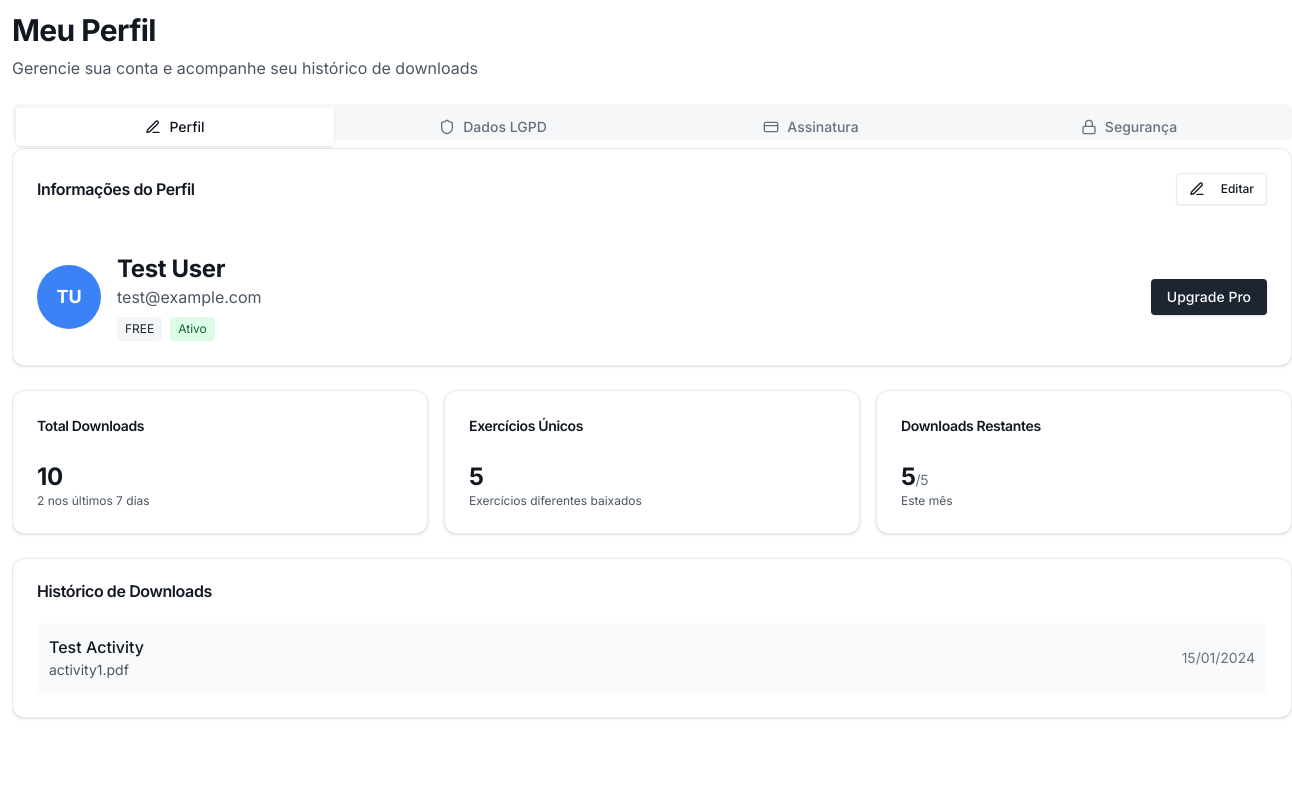
Test: UserProfile Component › cancels edit mode and resets form
This screenshot has width=1292, height=812.
Expected: the heading "Test User" is shown, [117, 254, 225, 283]
Note: Enter edit mode
Click the button "Editar" at (1221, 189), box [1176, 173, 1267, 205]
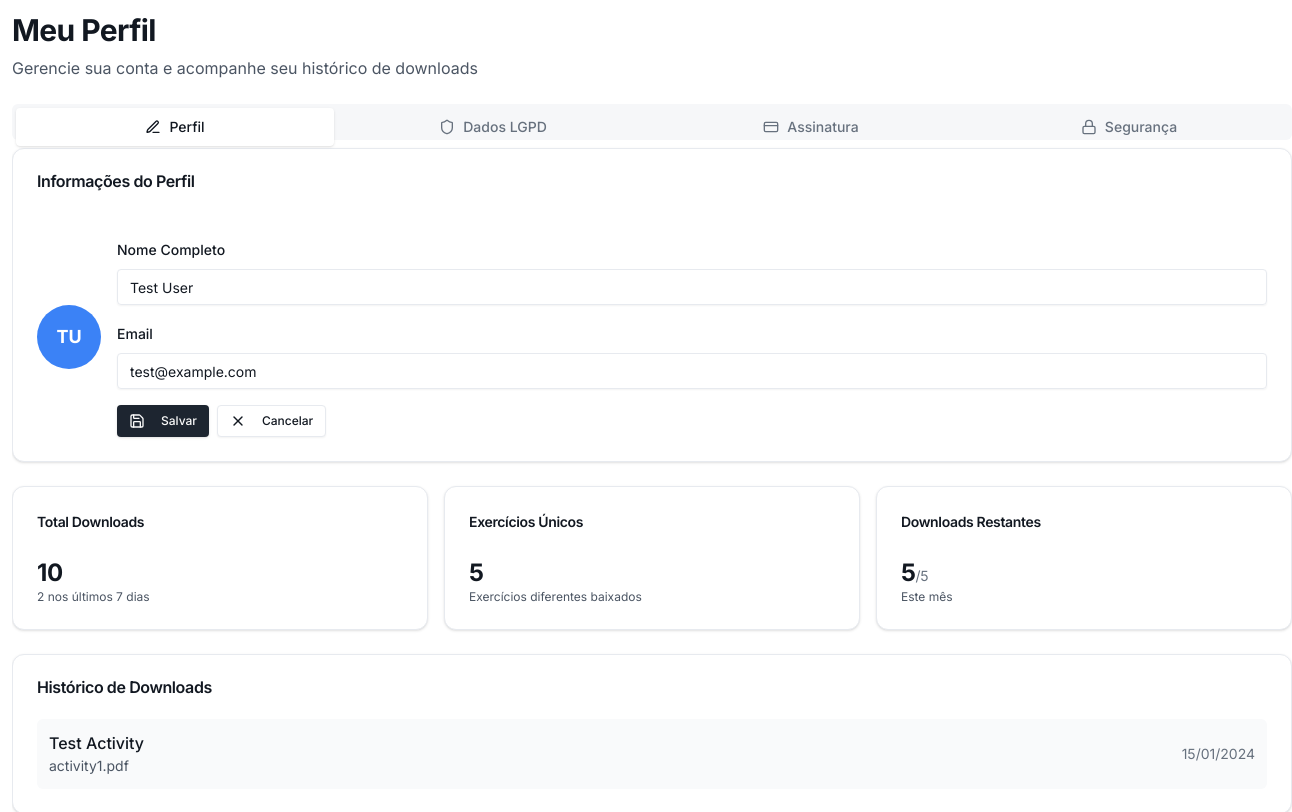
Note: Modify form
Replace the text in the field showing "Test User" with "Modified Name" at (692, 287), box [117, 269, 1267, 305]
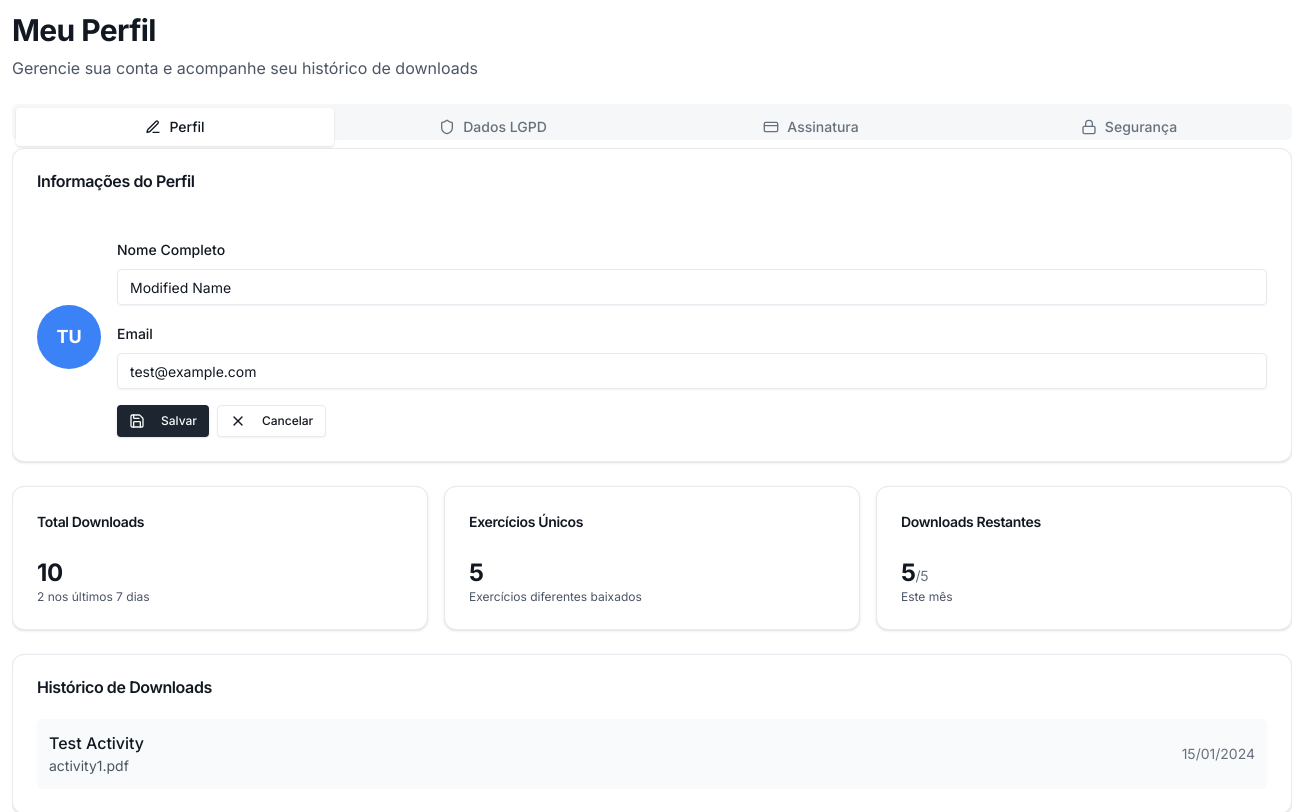
Note: Cancel edit
Click the button "Cancelar" at (272, 421), box [217, 405, 326, 437]
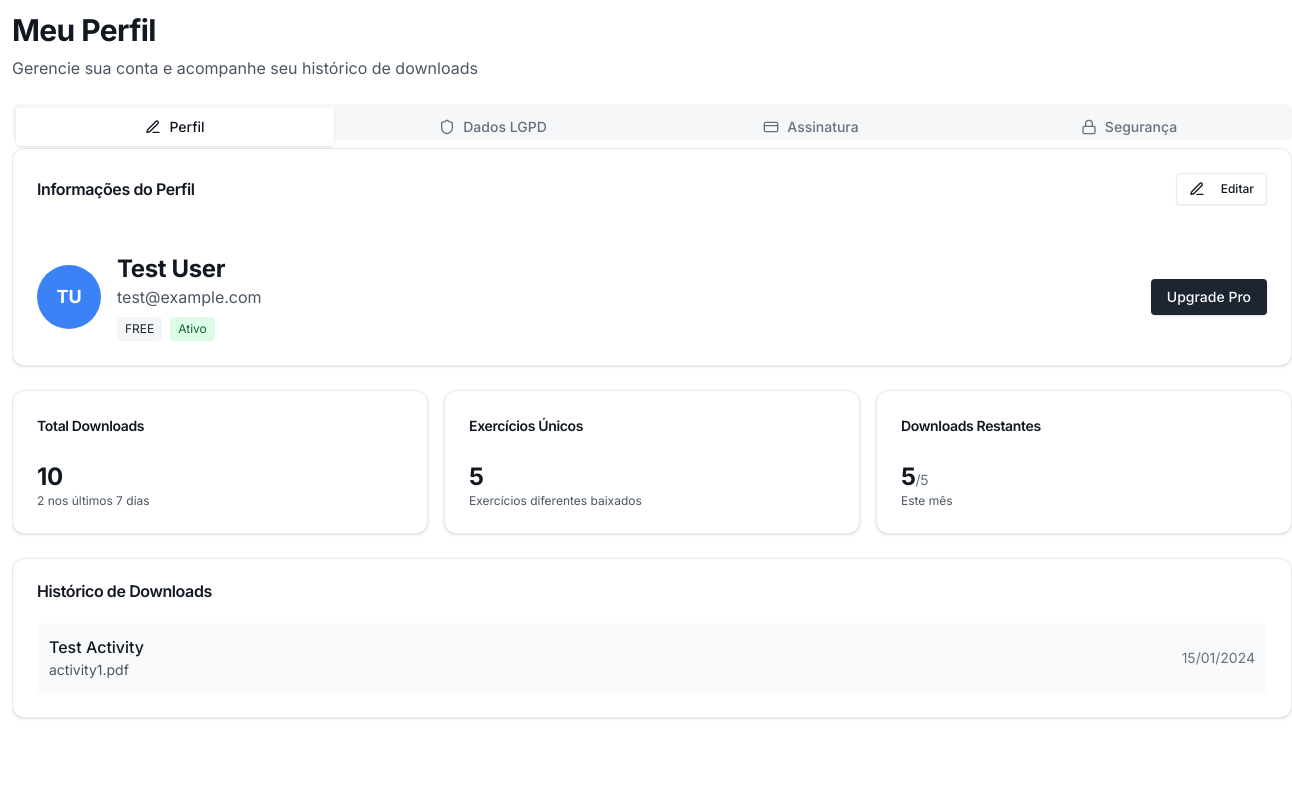
Expected: the field showing "Modified Name" is not shown
Expected: the heading "Test User" is shown, [117, 254, 225, 283]
